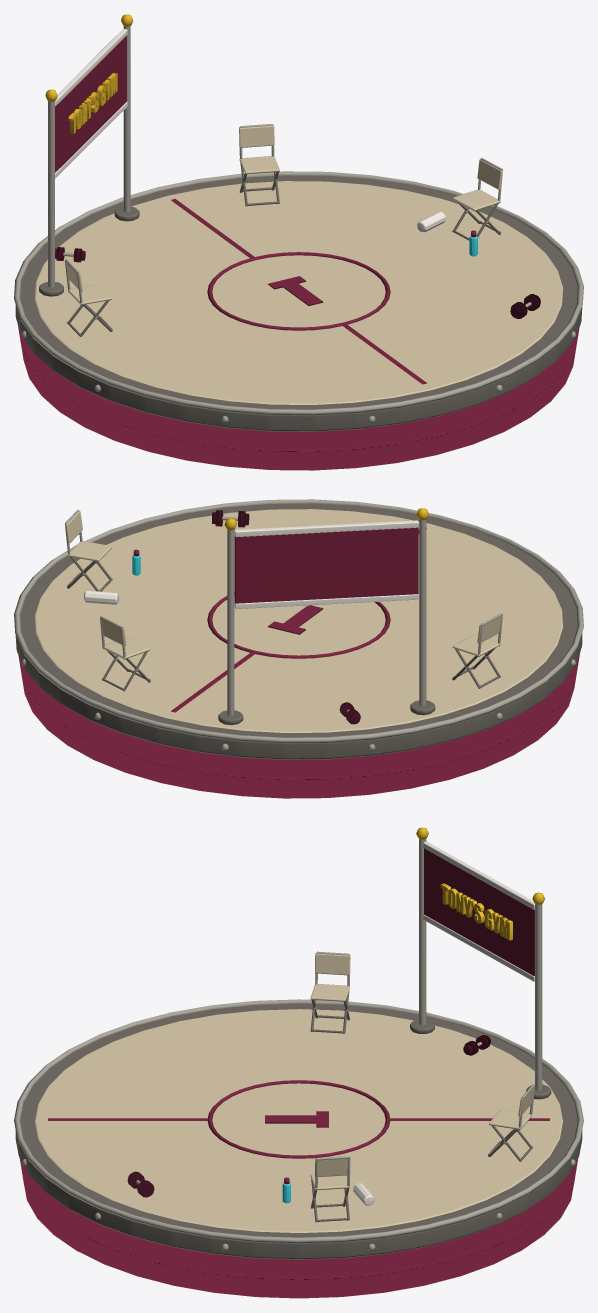
The model's file is arena_gym.glb.
3 views of the same model, one above another, from view 1: azimuth 30°, elevation 25°; view 2: azimuth 150°, elevation 25°; view 3: azimuth 270°, elevation 25° (orthographic).
Visible parts, largest first — view 1: Mat, Body, Banner, Chairs, Markings, Stuff; view 2: Mat, Body, Banner, Chairs, Markings, Stuff; view 3: Mat, Body, Banner, Chairs, Markings, Stuff.
Boxes of the visible parts, bbox=[...] form: Mat: bbox=[35, 181, 562, 404]; Body: bbox=[14, 171, 583, 470]; Banner: bbox=[39, 14, 139, 296]; Chairs: bbox=[65, 124, 502, 336]; Markings: bbox=[171, 198, 426, 384]; Stuff: bbox=[55, 211, 540, 318]; Mat: bbox=[35, 509, 562, 732]; Body: bbox=[14, 499, 583, 798]; Banner: bbox=[218, 508, 435, 725]; Chairs: bbox=[65, 510, 502, 691]; Markings: bbox=[171, 527, 426, 712]; Stuff: bbox=[84, 510, 360, 724]; Mat: bbox=[35, 1009, 562, 1232]; Body: bbox=[14, 999, 583, 1298]; Banner: bbox=[410, 827, 551, 1099]; Chairs: bbox=[310, 951, 535, 1222]; Markings: bbox=[48, 1080, 549, 1158]; Stuff: bbox=[127, 1035, 490, 1205].
Bounding box in the file's own units: 7.04 × 3.88 × 7.04.
